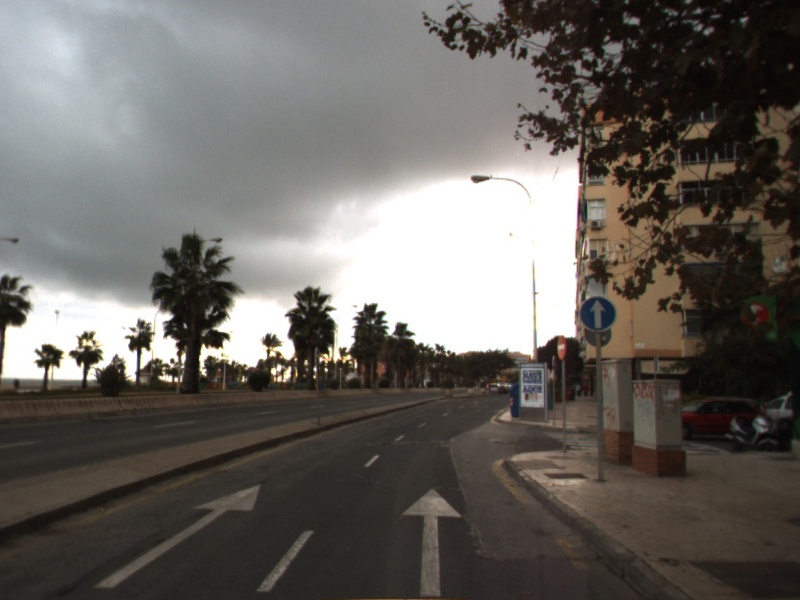STRAIGHT: (93, 482, 262, 589), (400, 486, 464, 598)
